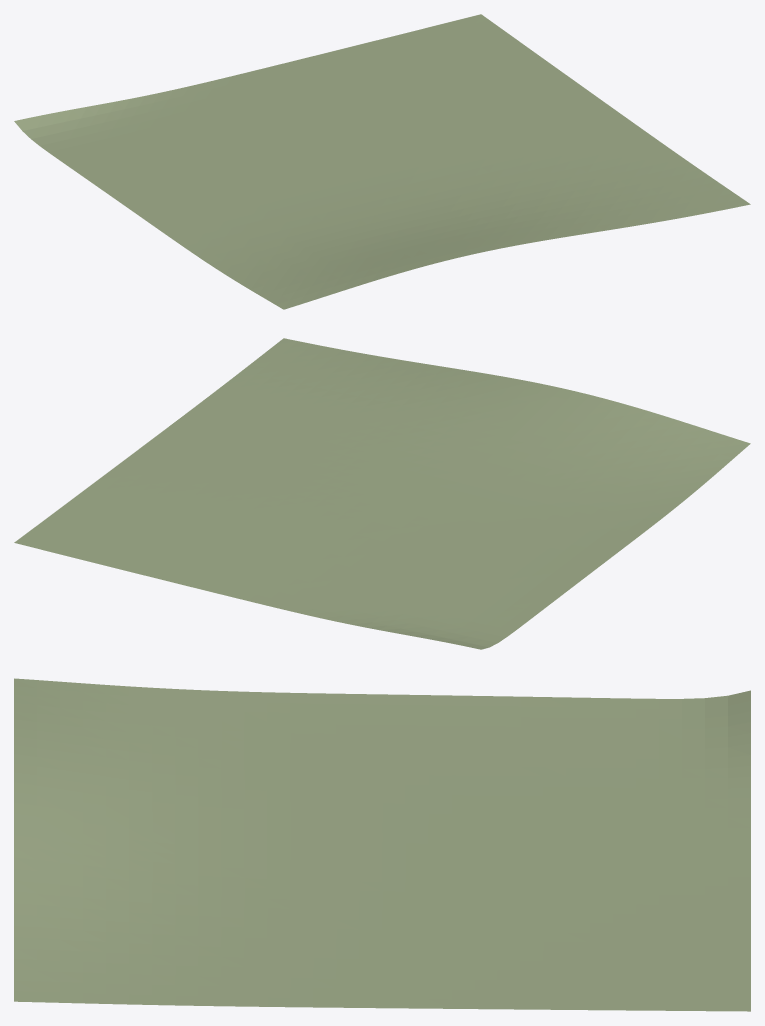
File: lunar-3-1.glb
3 renders of one model, top to bottom at view 1: azimuth 30°, elevation 25°; view 2: azimuth 150°, elevation 25°; view 3: azimuth 270°, elevation 25°, orthographic. The views are drawn at different scales.
Parts seen in each view (by area): view 1: lunar-3-1; view 2: lunar-3-1; view 3: lunar-3-1.
Boxes of the visible parts, x1,y1,x2,y2 form: lunar-3-1: [14, 14, 750, 309]; lunar-3-1: [14, 338, 750, 649]; lunar-3-1: [14, 678, 750, 1011].
Bounding box in the file's own units: 128 × 6.92 × 128.
